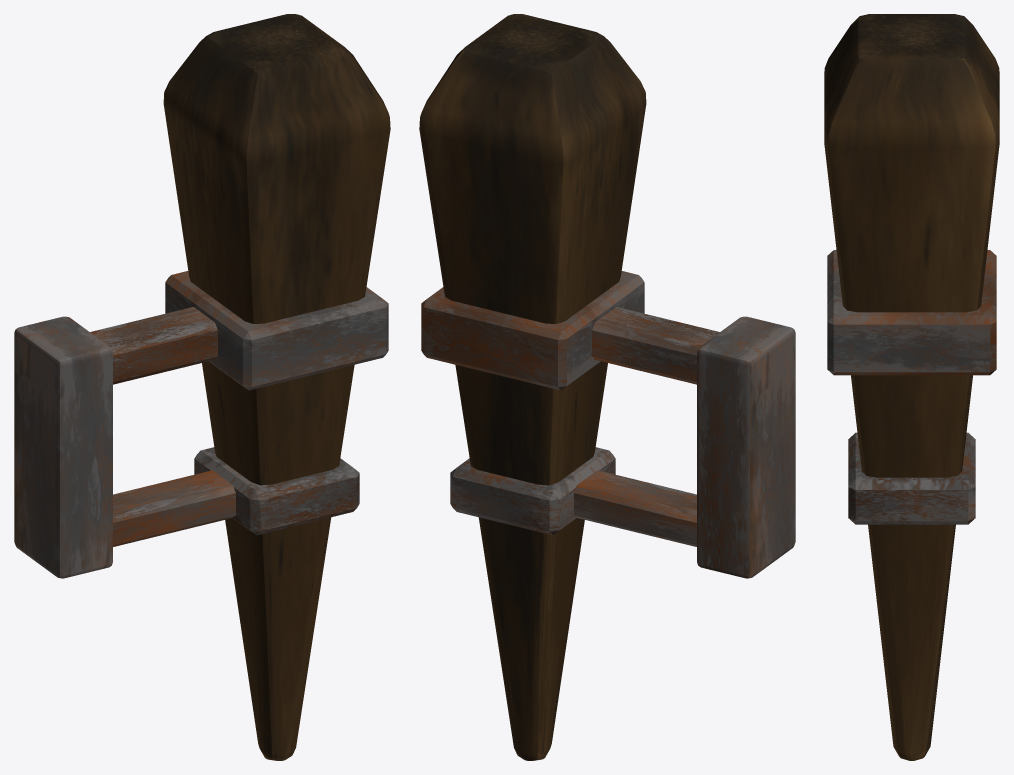
The model's file is Mod_fackla_01.fbx.
3 views of the same model, side by side, from view 1: azimuth 30°, elevation 25°; view 2: azimuth 150°, elevation 25°; view 3: azimuth 270°, elevation 25° (orthographic).
Parts seen in each view (by area): view 1: pCube1, pCube6, pCube2, pCube3, pCube5, pCube4; view 2: pCube1, pCube6, pCube2, pCube3, pCube5, pCube4; view 3: pCube1, pCube2, pCube3.
Boxes of the visible parts, <box> form: pCube1: <box>163,14,390,760</box>; pCube6: <box>14,316,112,578</box>; pCube2: <box>165,271,388,390</box>; pCube3: <box>194,447,359,535</box>; pCube5: <box>113,470,235,546</box>; pCube4: <box>90,307,217,384</box>; pCube1: <box>419,14,646,760</box>; pCube6: <box>697,316,795,578</box>; pCube2: <box>421,271,644,390</box>; pCube3: <box>450,447,615,535</box>; pCube5: <box>574,470,696,546</box>; pCube4: <box>592,307,719,384</box>; pCube1: <box>824,14,999,760</box>; pCube2: <box>827,250,996,375</box>; pCube3: <box>848,432,975,524</box>.
Bounding box in the file's own units: 1.5 × 3.26 × 0.715.
